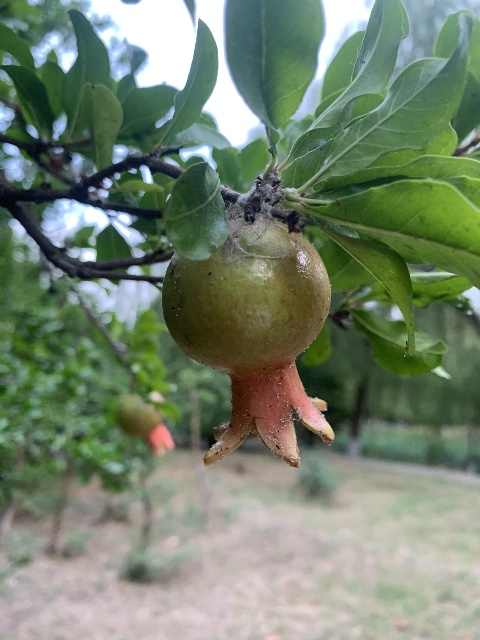mid-growth: (162, 219, 335, 468), (116, 394, 174, 456)
